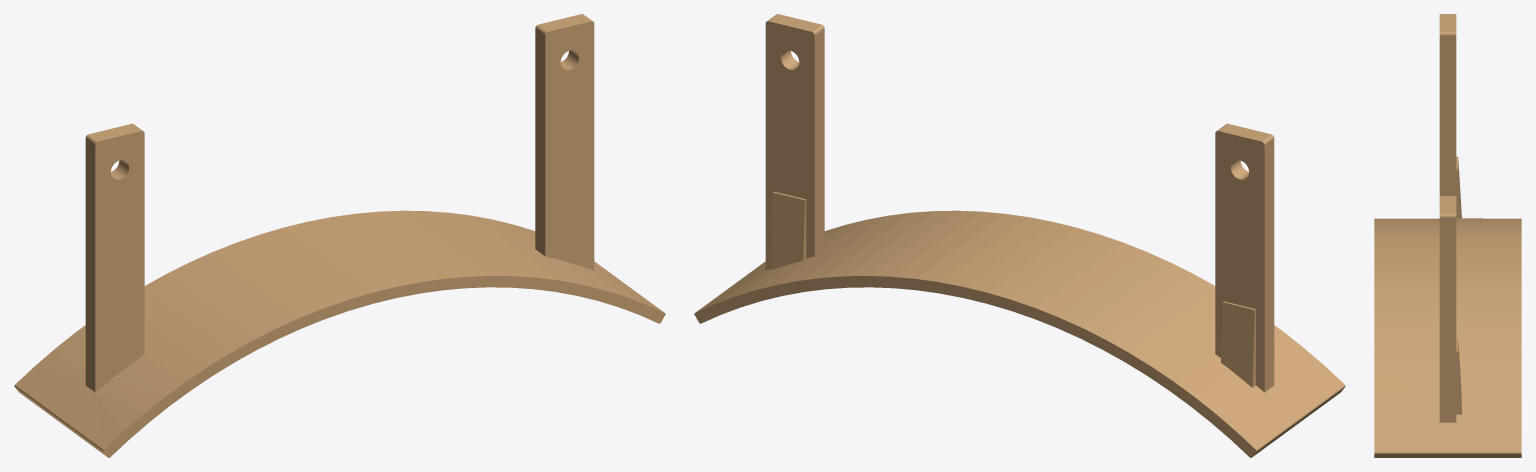
The model's file is ponte.glb.
3 renders of one model, left to right at view 1: azimuth 30°, elevation 25°; view 2: azimuth 150°, elevation 25°; view 3: azimuth 270°, elevation 25°, orthographic. The views are drawn at different scales.
Visible parts, largest first — view 1: ponte.stl; view 2: ponte.stl; view 3: ponte.stl.
Part boxes in pixels (box(x1,y1,x2,y2)): ponte.stl: box(14, 14, 665, 457); ponte.stl: box(694, 14, 1345, 457); ponte.stl: box(1374, 14, 1521, 457).
Bounding box in the file's own units: 0.105 × 0.05 × 0.0288.
